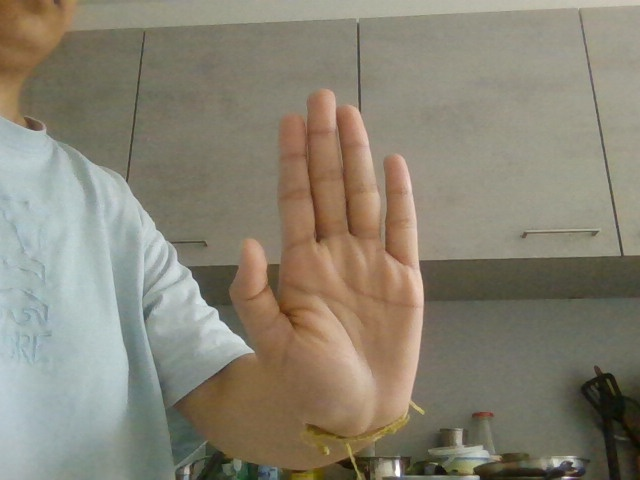open_hand: (232, 88, 483, 442)
